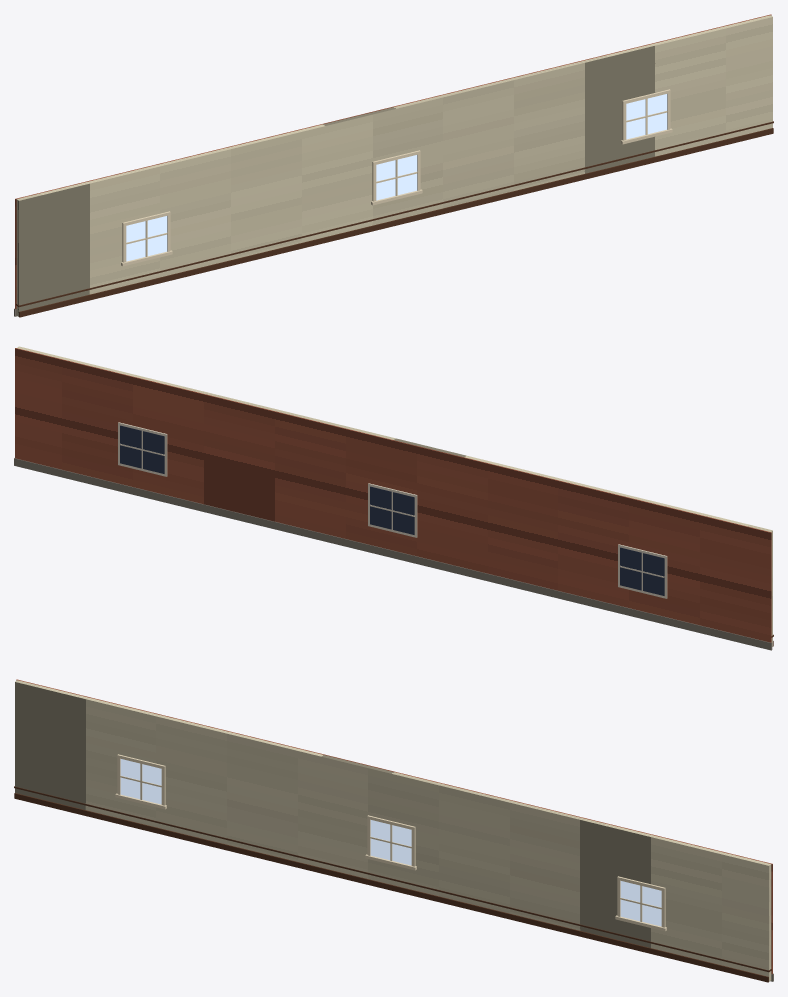
File: wing_n.glb
3 views of the same model, one above another, from view 1: azimuth 30°, elevation 25°; view 2: azimuth 150°, elevation 25°; view 3: azimuth 330°, elevation 25° (orthographic).
Visible parts, largest first — view 1: Box1, Box2, Box39, Box13, Box24, Box35, Box3, Box38; view 2: Box3, Box4, Box1, Box6, Box17, Box28, Box5, Box16, Box27; view 3: Box1, Box2, Box39, Box13, Box24, Box35, Box3, Box38.
Part boxes in pixels (x1,y1,x2,y2): Box1: [16, 15, 772, 316]; Box2: [19, 128, 773, 317]; Box39: [16, 121, 773, 307]; Box13: [126, 216, 167, 261]; Box24: [376, 155, 417, 200]; Box35: [626, 94, 667, 139]; Box3: [15, 14, 771, 309]; Box38: [16, 125, 771, 316]; Box3: [15, 348, 771, 642]; Box4: [14, 458, 772, 650]; Box1: [17, 346, 772, 646]; Box6: [620, 547, 664, 595]; Box17: [370, 486, 414, 534]; Box28: [120, 425, 164, 473]; Box5: [618, 544, 667, 598]; Box16: [368, 483, 417, 537]; Box27: [118, 422, 167, 476]; Box1: [15, 680, 771, 981]; Box2: [14, 793, 768, 982]; Box39: [14, 786, 771, 972]; Box13: [120, 759, 161, 804]; Box24: [370, 820, 411, 865]; Box35: [620, 881, 661, 926]; Box3: [16, 679, 772, 974]; Box38: [17, 789, 771, 980].
Bounding box in the file's own units: 27.27 × 4.04 × 0.338.
8 materials, 2 textured.
